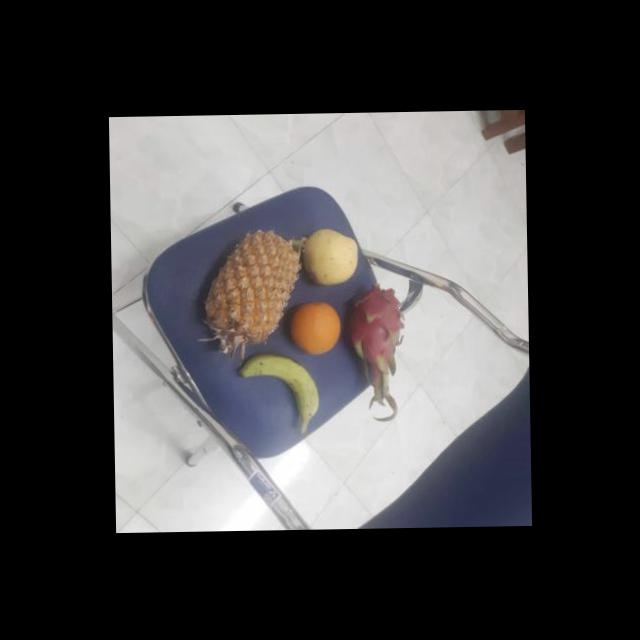banana: (240, 350, 320, 426)
orange: (286, 298, 342, 356)
pear: (301, 224, 360, 286)
pineapple: (206, 232, 301, 348)
pitaya: (344, 286, 404, 383)
